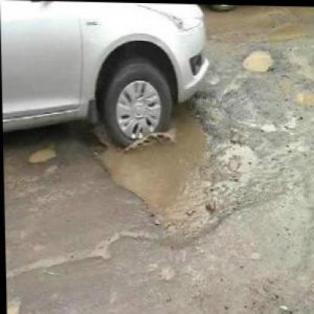Hueco: (88, 82, 246, 246), (241, 45, 276, 71), (24, 144, 58, 166)
